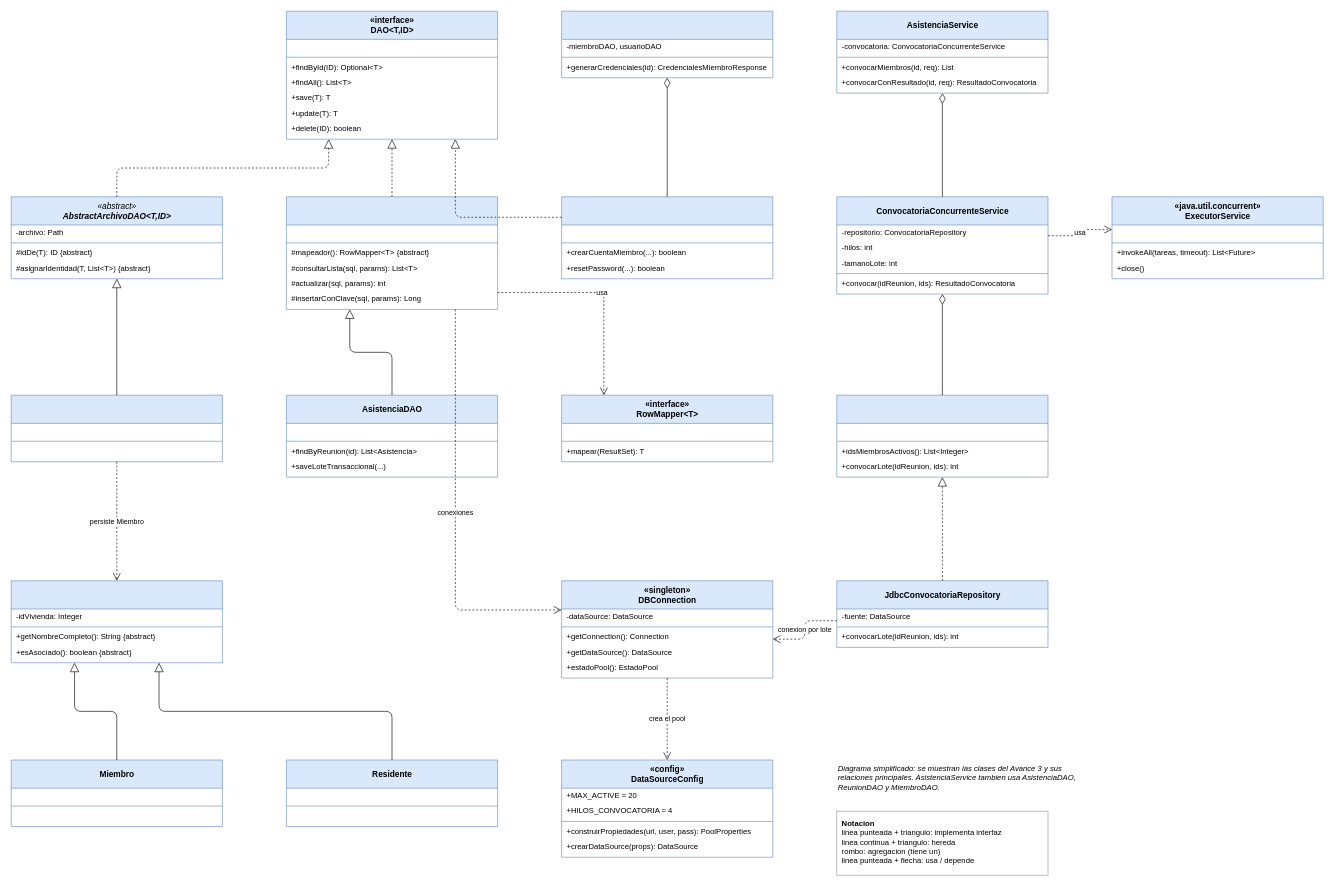
This 1334x886 diagram has some shape labels left out. Here are the shapes that lost their labels. From the top down, the box of each, then its label:
(561, 11, 773, 78): MiembroService
(286, 196, 498, 309): «abstract» AbstractJdbcDAO<T,ID>
(561, 196, 773, 279): MiembroDAO / UsuarioDAO
(11, 395, 222, 462): MiembroArchivoDAO
(836, 395, 1048, 477): «interface» ConvocatoriaRepository
(11, 580, 222, 663): «abstract» Persona
